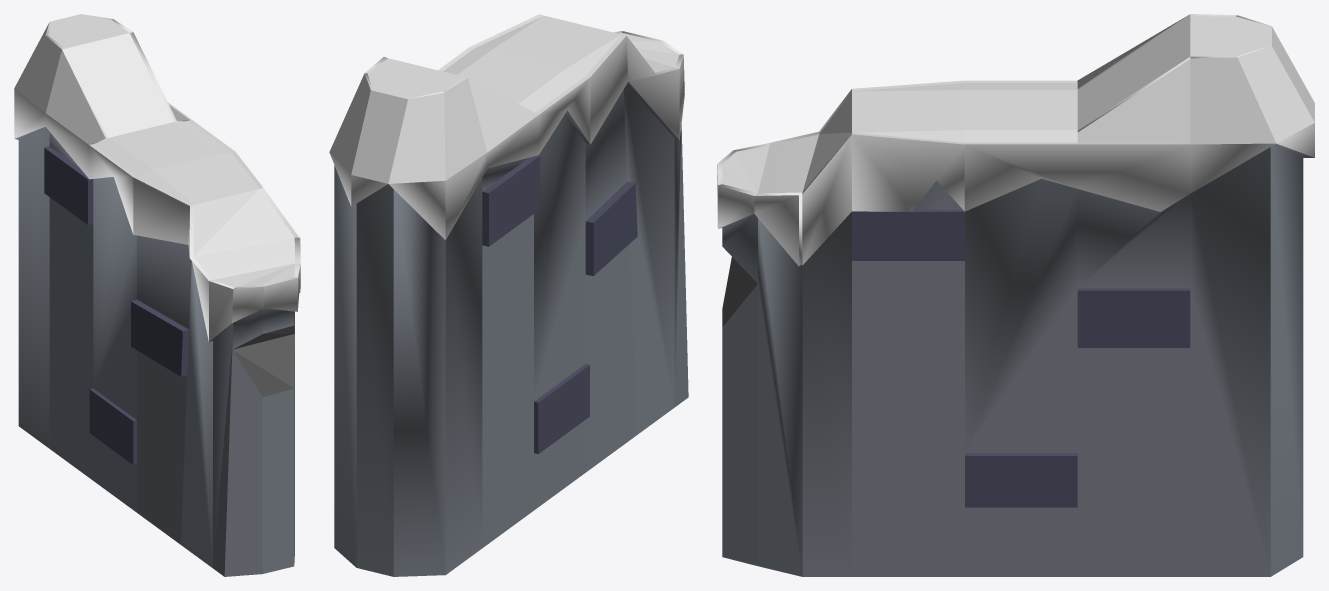
The model's file is CastleWall_small_snow.fbx.
3 renders of one model, left to right at view 1: azimuth 30°, elevation 25°; view 2: azimuth 150°, elevation 25°; view 3: azimuth 270°, elevation 25°, orthographic. The views are drawn at different scales.
Parts seen in each view (by area): view 1: Cube; view 2: Cube; view 3: Cube.
Boxes of the visible parts, bbox=[...] form: Cube: bbox=[14, 14, 300, 576]; Cube: bbox=[329, 14, 688, 576]; Cube: bbox=[717, 14, 1314, 576].
Size of the model in its own units: 112 by 400 by 424.
